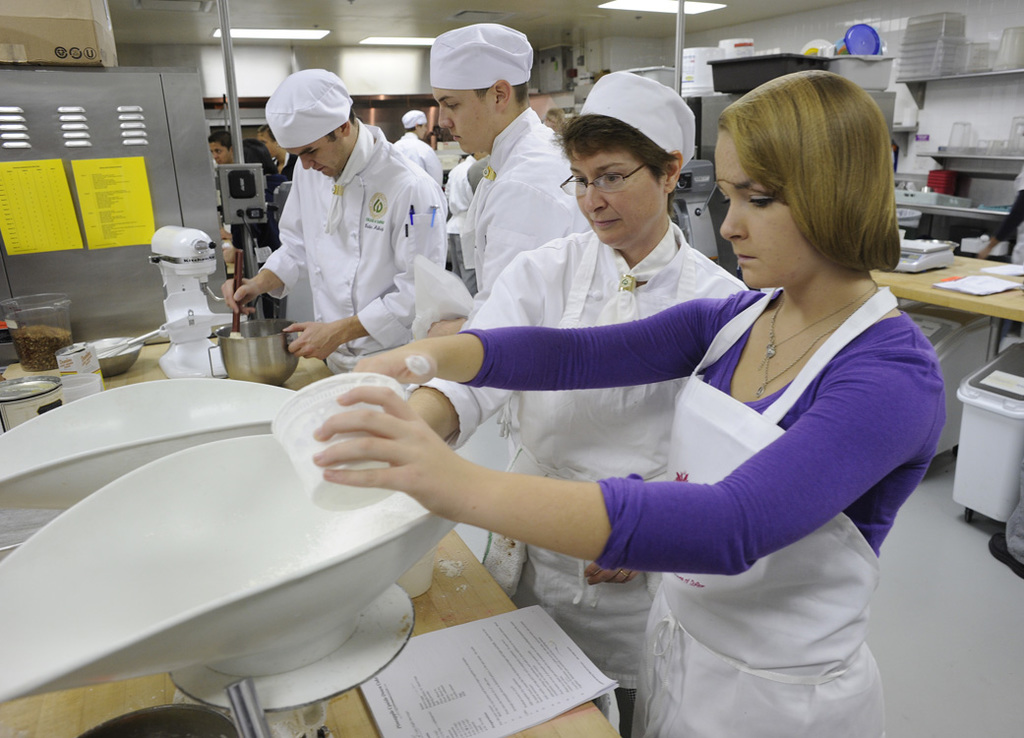Person: (207, 23, 1024, 738)
